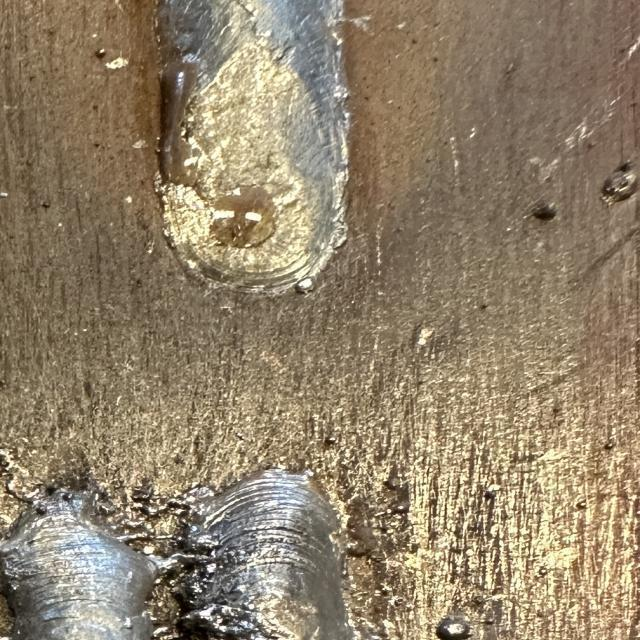Excess Reinforcement: (133, 469, 350, 640), (2, 482, 181, 640)
Spatters: (602, 161, 638, 204), (435, 618, 472, 640), (532, 204, 557, 220), (295, 278, 313, 294), (485, 484, 500, 500), (323, 436, 337, 446), (95, 49, 107, 59), (575, 500, 587, 510)
